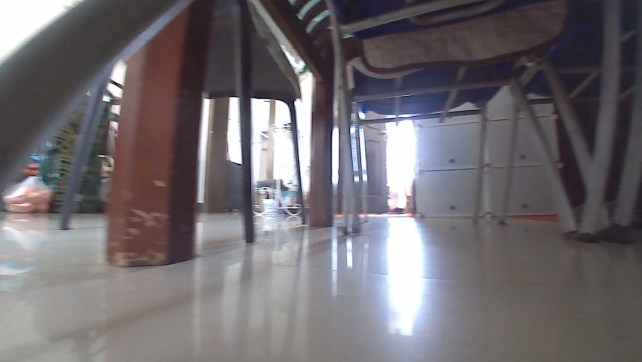dining_table1: (0, 0, 641, 272)
